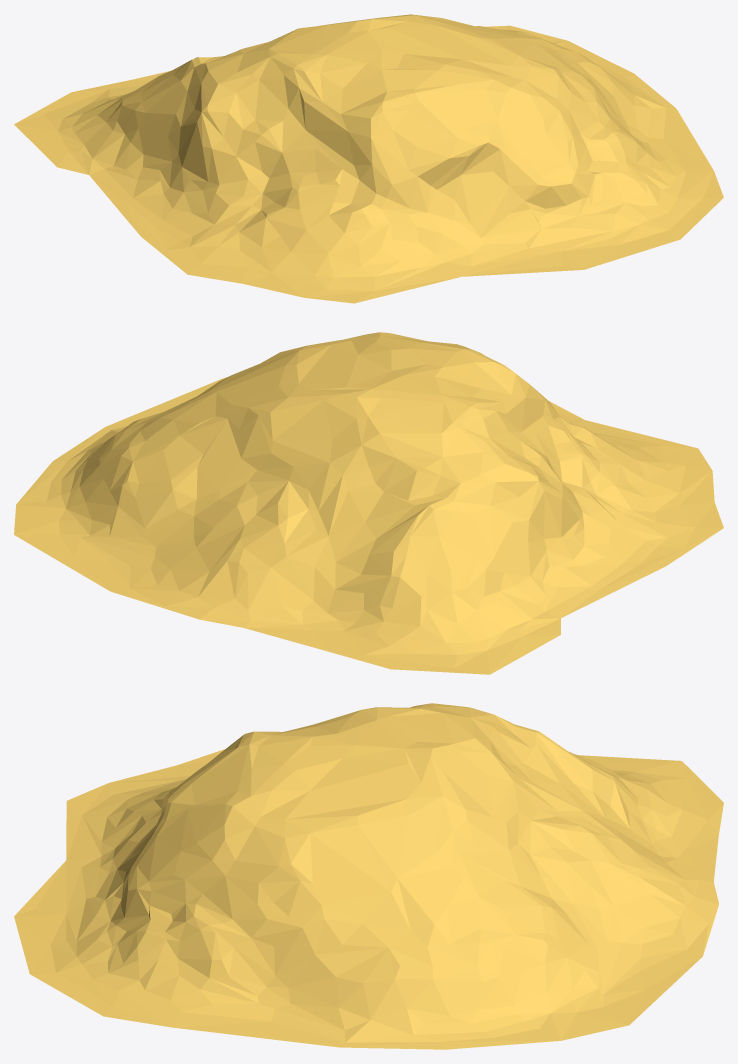
Rendered from Terrain 05.FBX.
The picture shows the model from 3 angles, top to bottom: view 1: azimuth 30°, elevation 25°; view 2: azimuth 150°, elevation 25°; view 3: azimuth 270°, elevation 25°; orthographic projection. The views are drawn at different scales.
Parts seen in each view (by area): view 1: plane; view 2: plane; view 3: plane.
Part boxes in pixels (x1=…): plane: x1=14, y1=14, x2=723, y2=303; plane: x1=14, y1=332, x2=723, y2=674; plane: x1=14, y1=703, x2=723, y2=1049.
Bounding box in the file's own units: 100 × 22.26 × 99.66.
